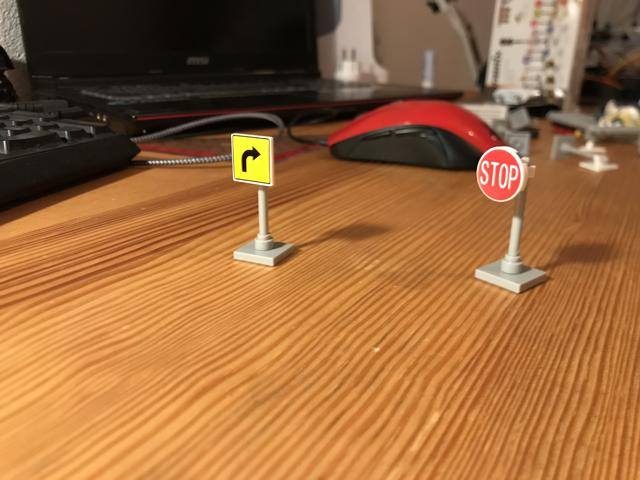fahrtrichtung rechts: (229, 133, 275, 187)
stop: (475, 147, 525, 202)
